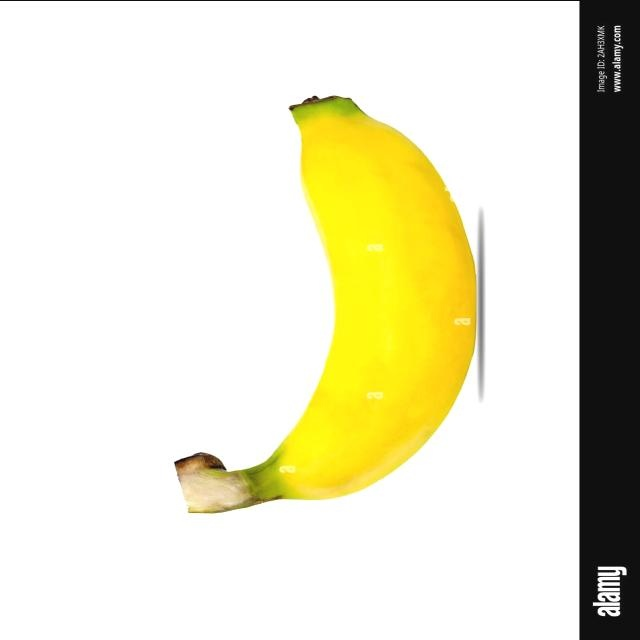agrume: (169, 87, 479, 517)
